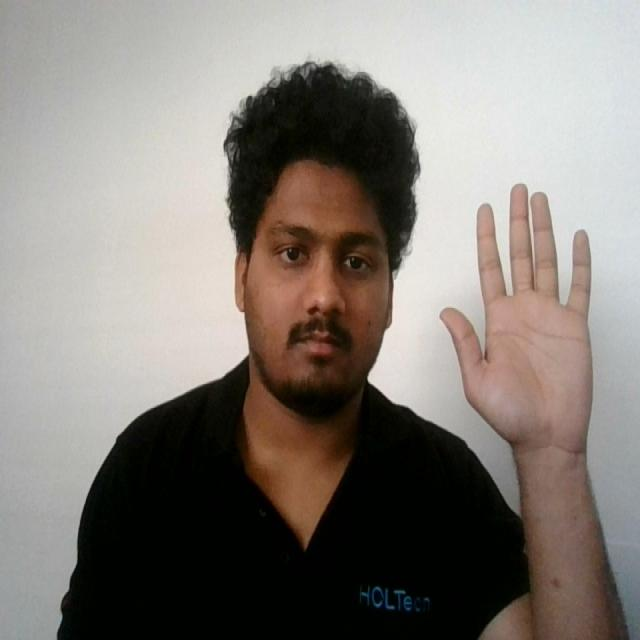Hello: (436, 175, 600, 462)
